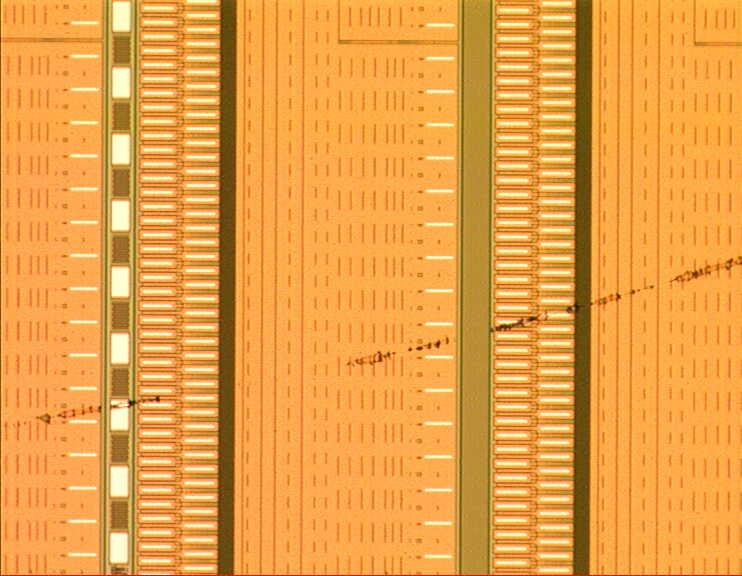SCRATCH: (1, 247, 742, 437)
